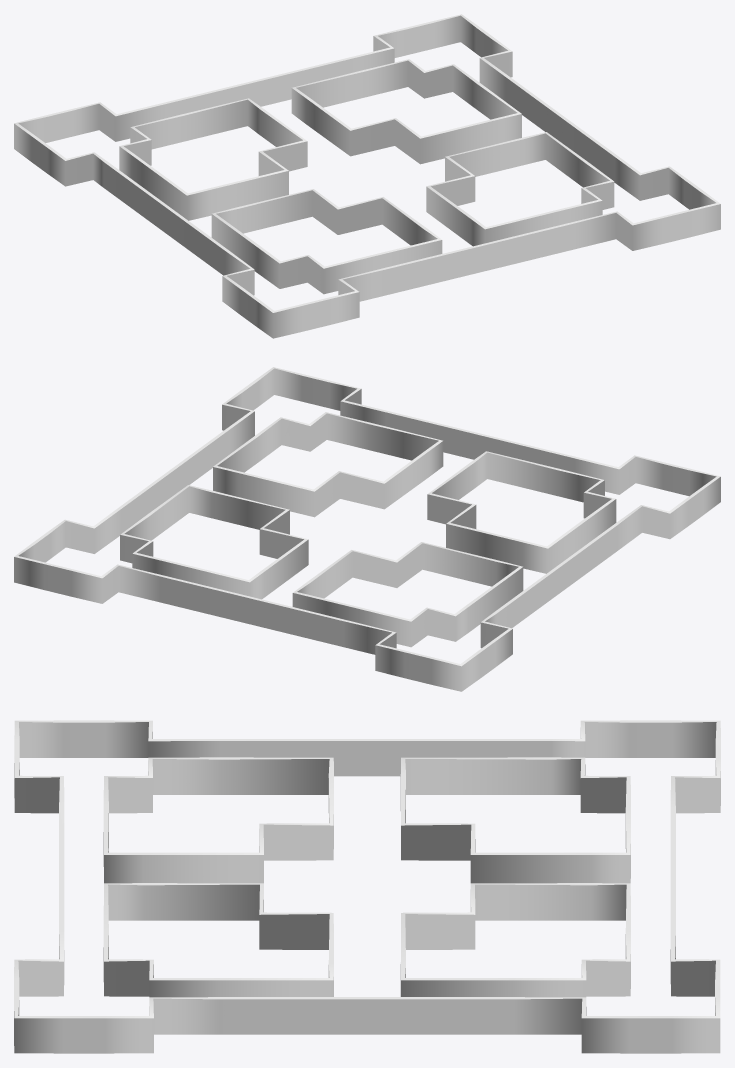
The model's file is mazeWall.obj.
3 views of the same model, one above another, from view 1: azimuth 30°, elevation 25°; view 2: azimuth 150°, elevation 25°; view 3: azimuth 270°, elevation 25° (orthographic). The views are drawn at different scales.
Visible parts, largest first — view 1: Plane.001; view 2: Plane.001; view 3: Plane.001.
Part boxes in pixels (<box>): Plane.001: <box>14,14,720,338</box>; Plane.001: <box>14,367,720,691</box>; Plane.001: <box>14,720,720,1053</box>.
Bounding box in the file's own units: 20.39 × 1.15 × 20.46.
Materials: 1 (1 with a texture image).
